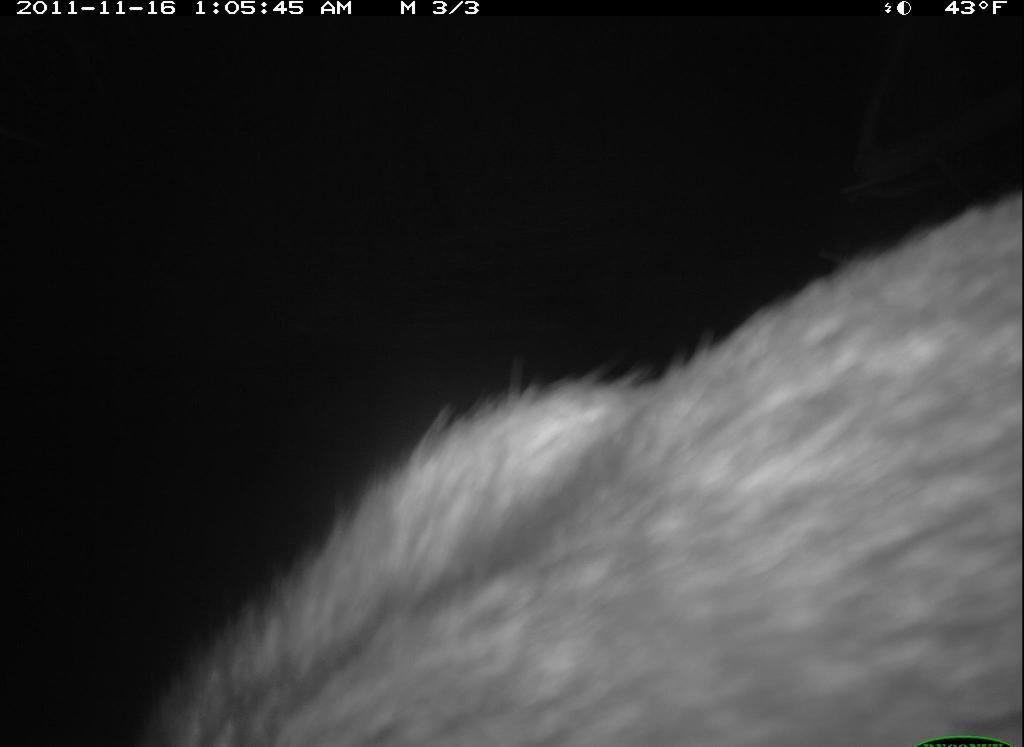raccoon: (121, 168, 1024, 747)
